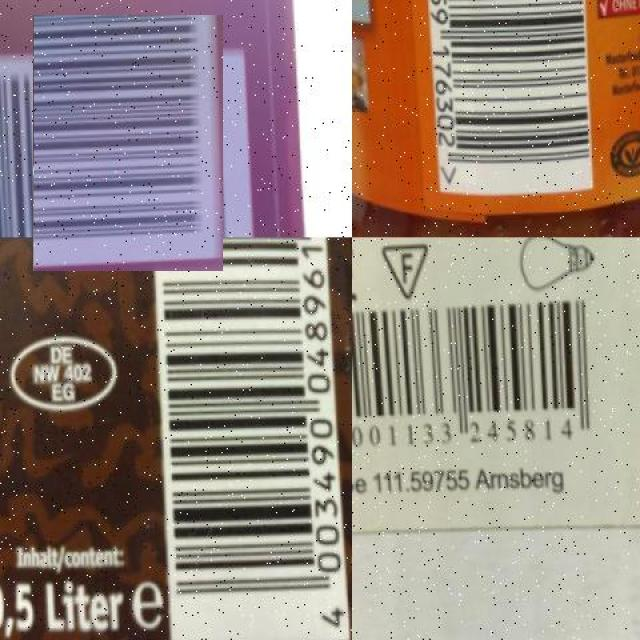Barcode: (152, 237, 351, 640), (17, 31, 240, 255), (352, 296, 615, 467), (424, 0, 597, 199)
